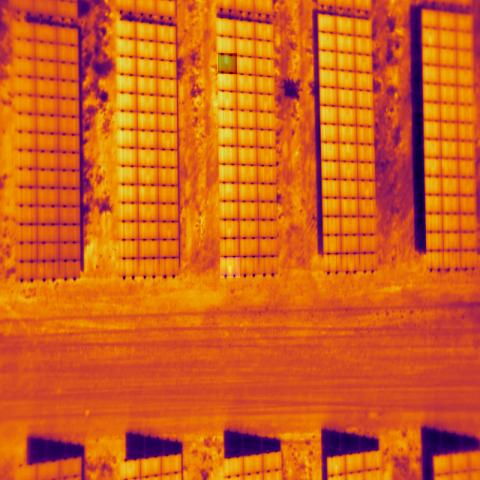fault: (221, 257, 241, 278), (218, 53, 237, 74)
